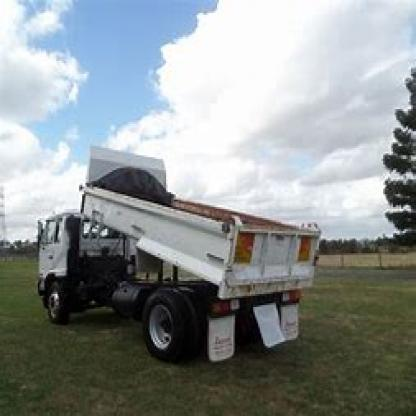dump_truck: (28, 128, 335, 372)
